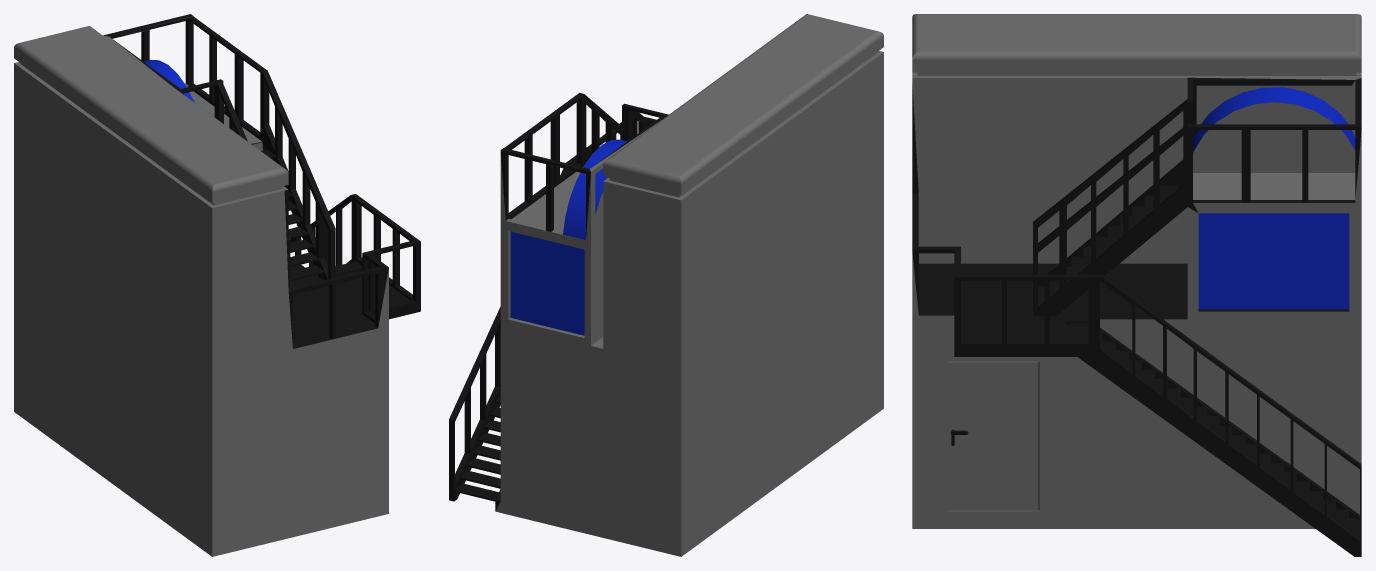
The model's file is qih 60 m urc.fbx.
The picture shows the model from 3 angles, left to right: view 1: azimuth 30°, elevation 25°; view 2: azimuth 150°, elevation 25°; view 3: azimuth 270°, elevation 25°; orthographic projection. The views are drawn at different scales.
Parts seen in each view (by area): view 1: Çåðêàëüíîå îòðàæåíèå2; view 2: Çåðêàëüíîå îòðàæåíèå2; view 3: Çåðêàëüíîå îòðàæåíèå2.
Boxes of the visible parts, <box> form: Çåðêàëüíîå îòðàæåíèå2: <box>14,14,420,556</box>; Çåðêàëüíîå îòðàæåíèå2: <box>449,14,883,556</box>; Çåðêàëüíîå îòðàæåíèå2: <box>912,14,1361,556</box>.
Size of the model in its own units: 450 by 700 by 680.
